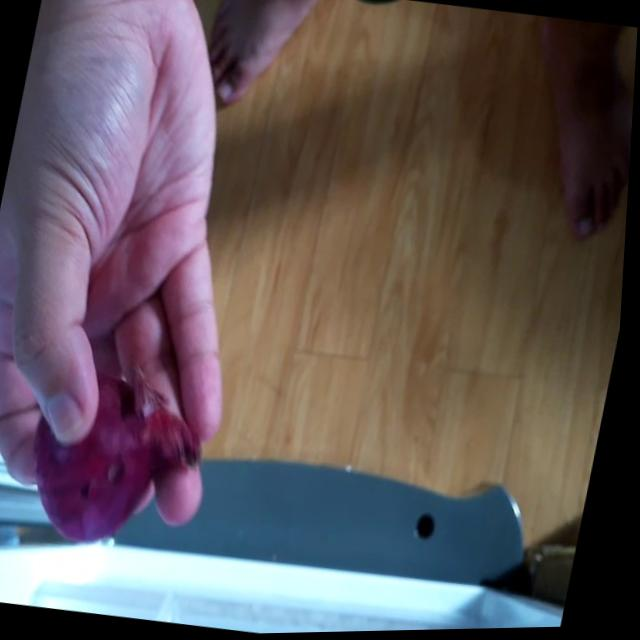onion: (28, 360, 206, 557)
